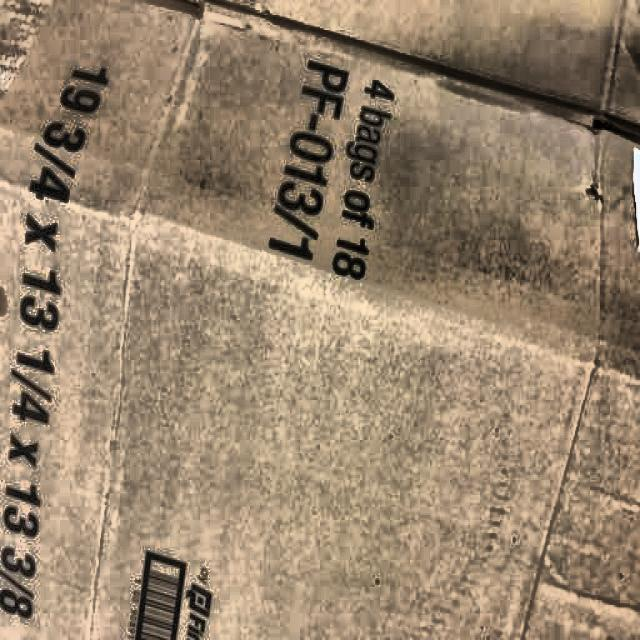cardboard: (6, 4, 631, 640)
